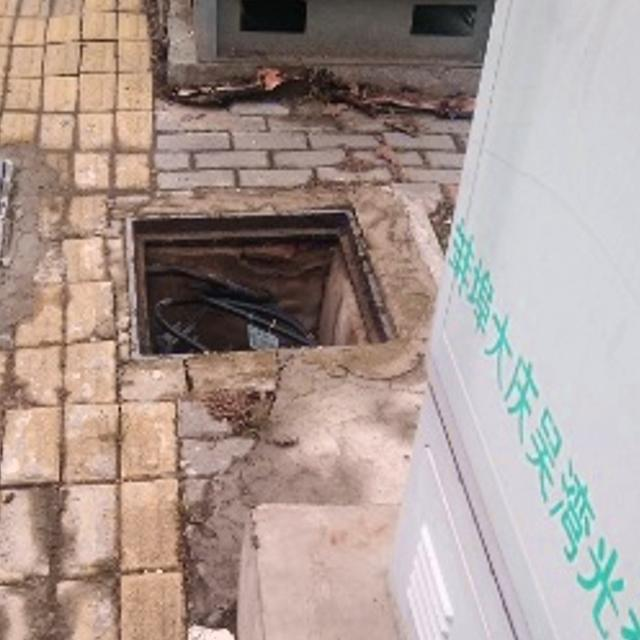good: (0, 154, 10, 303)
lose: (116, 204, 399, 356)
